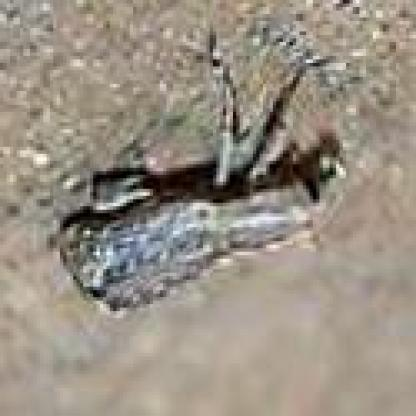rice-bug: (62, 66, 336, 322)
